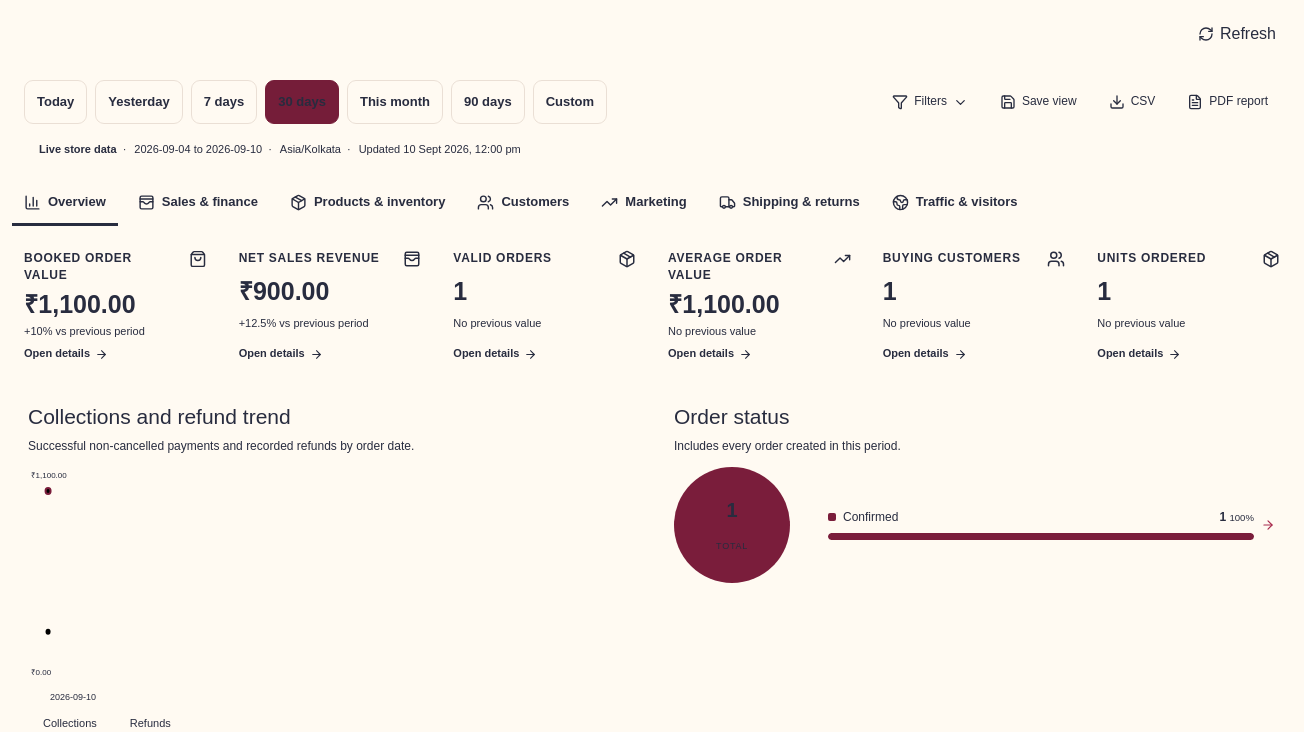
Test case: seller Reports Center loads every permitted section from seller-scoped APIs
Expected: the heading "Collections and refund trend" is shown, [28, 405, 291, 428]
Click the button "Sales & finance" at x=198, y=204, box [126, 182, 270, 226]
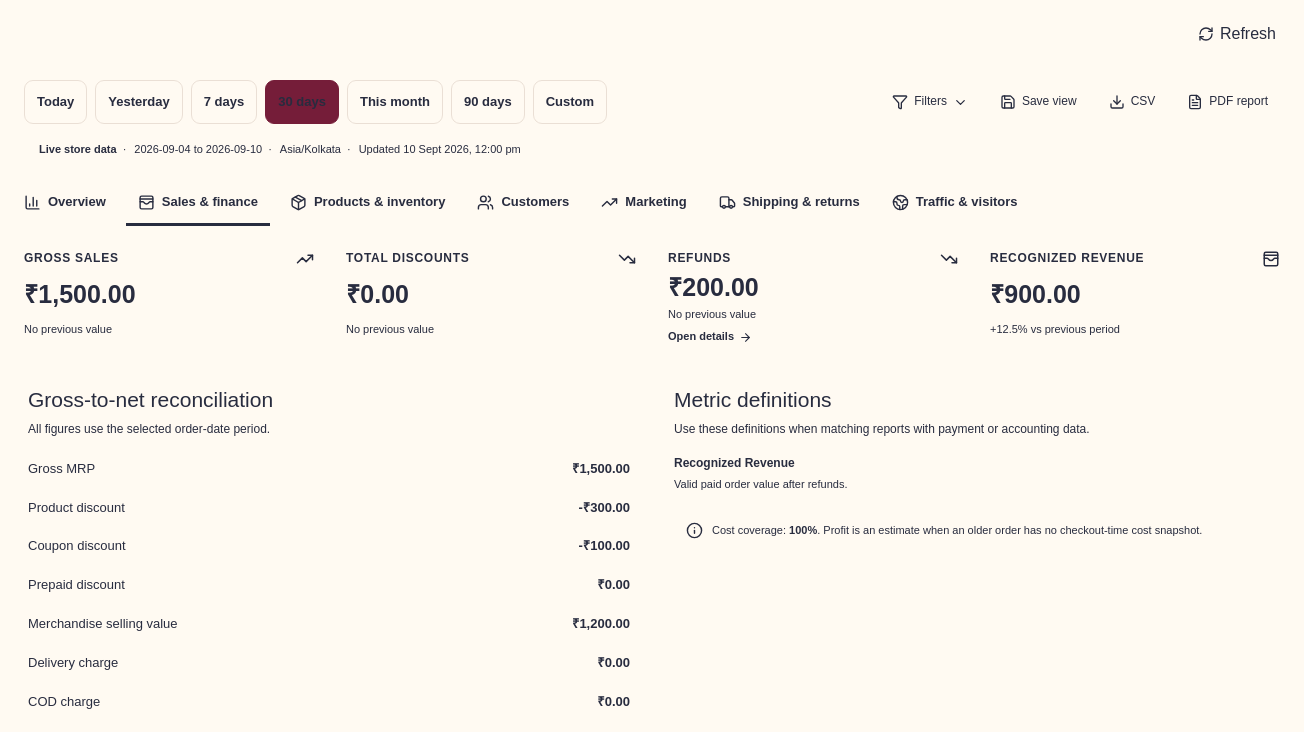
Expected: the heading "Gross-to-net reconciliation" is shown, [28, 385, 273, 416]
Click the button "Products & inventory" at x=368, y=204, box [278, 182, 457, 226]
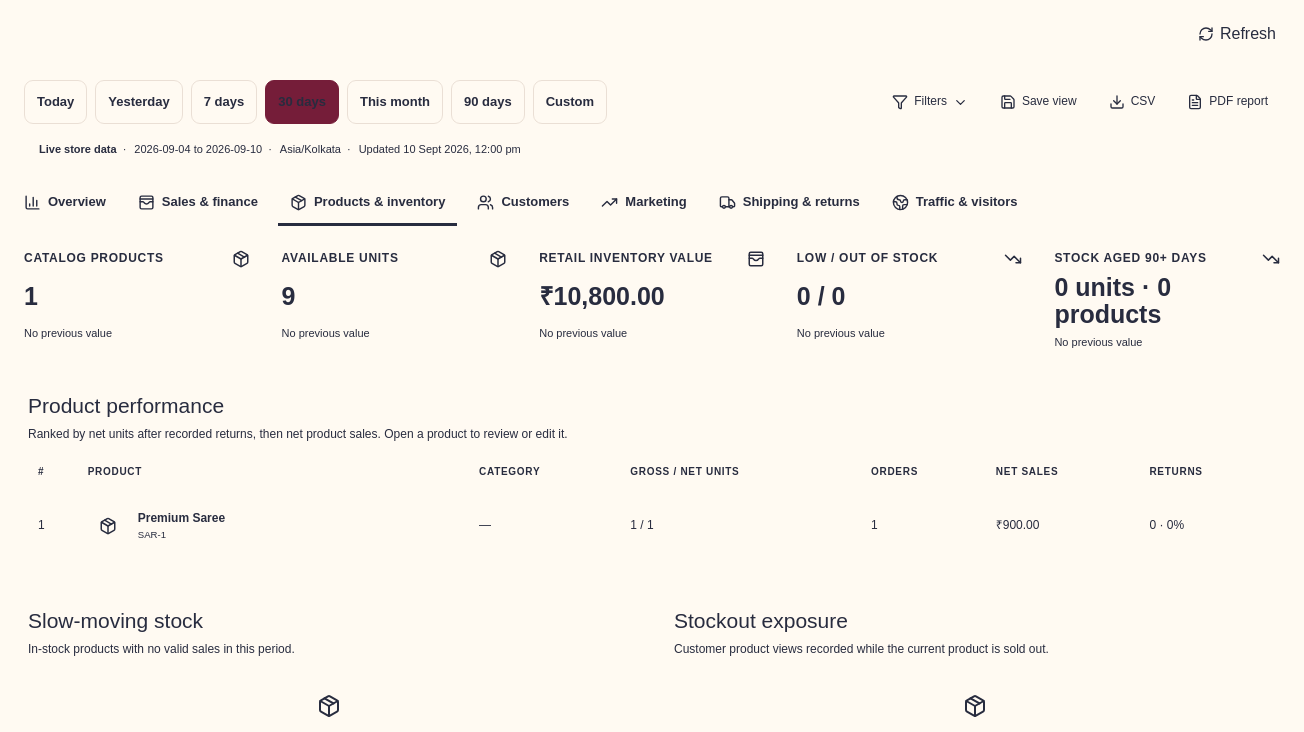
Expected: the heading "Product performance" is shown, [28, 394, 224, 417]
Click the button "Customers" at x=523, y=204, box [465, 182, 581, 226]
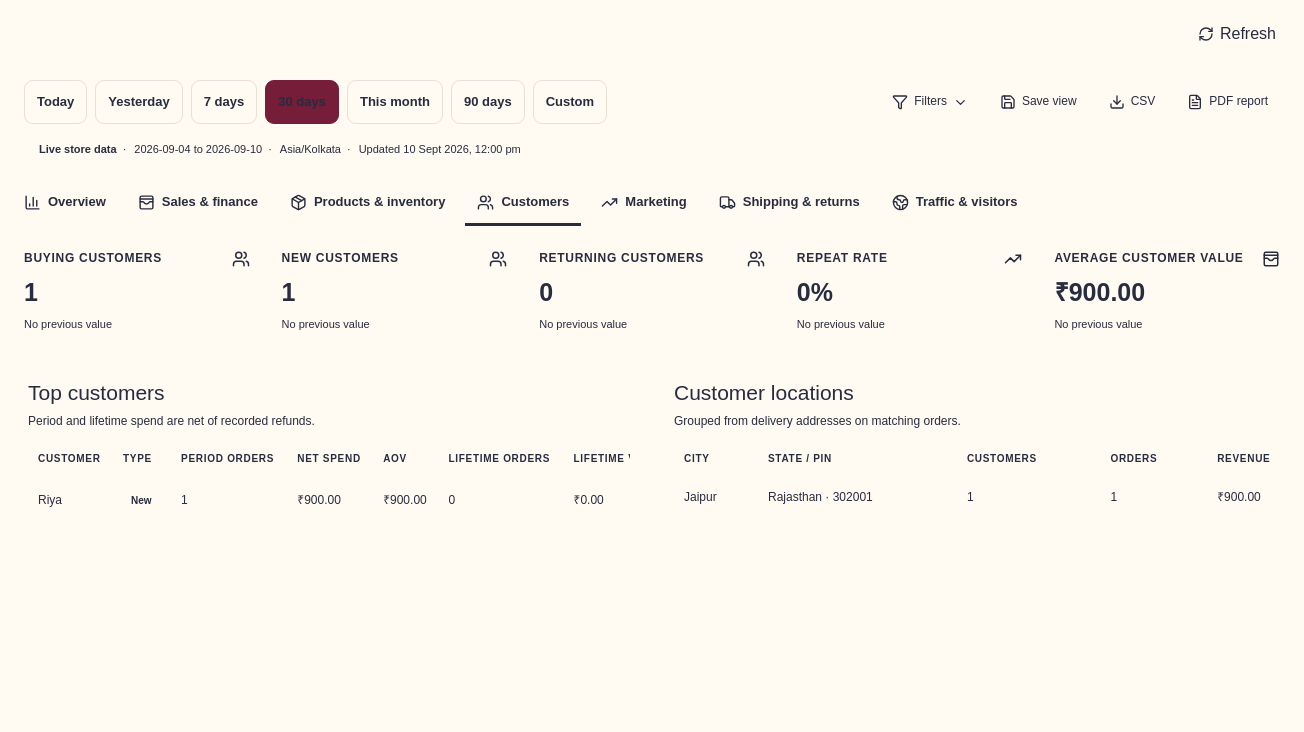
Expected: the heading "Customer locations" is shown, [674, 381, 854, 404]
Click the button "Marketing" at x=644, y=204, box [589, 182, 699, 226]
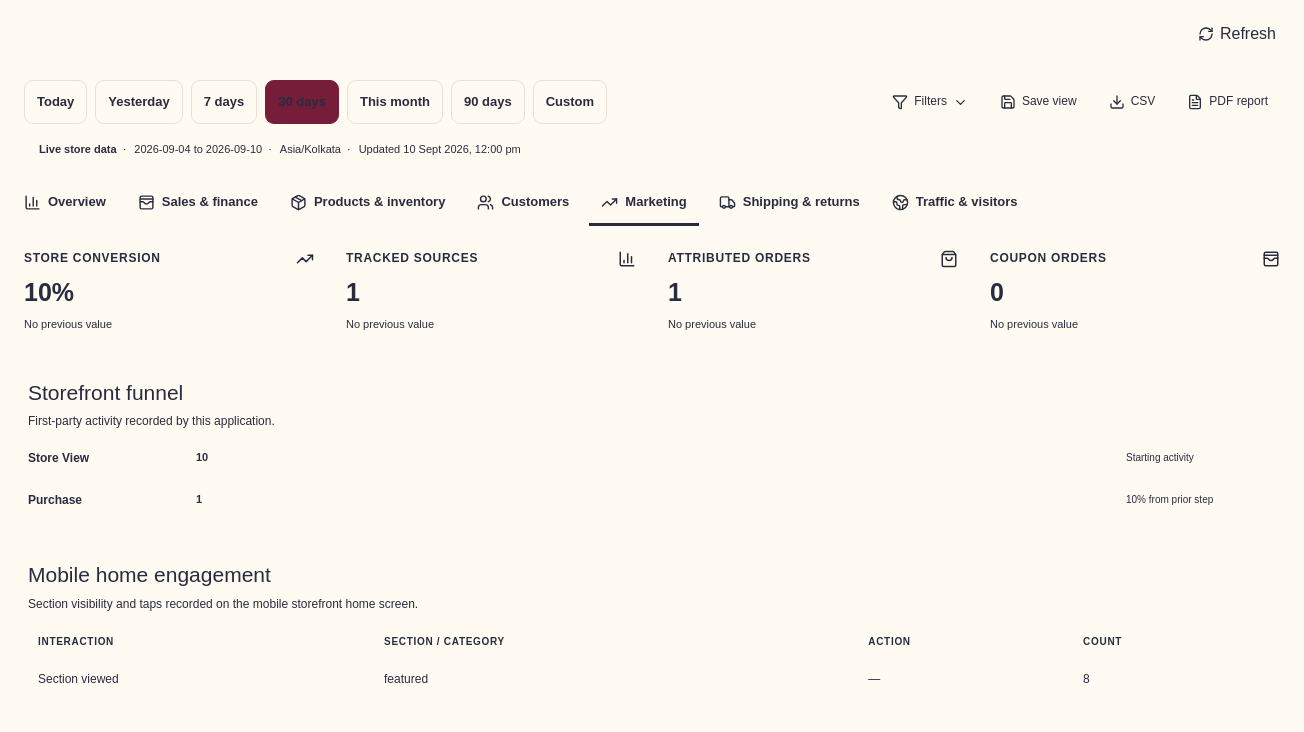
Expected: the heading "Storefront funnel" is shown, [28, 381, 183, 404]
Expected: the heading "Mobile home engagement" is shown, [28, 563, 271, 586]
Expected: the text "Section viewed" is shown, [28, 659, 374, 701]
Click the button "Shipping & returns" at x=789, y=204, box [707, 182, 872, 226]
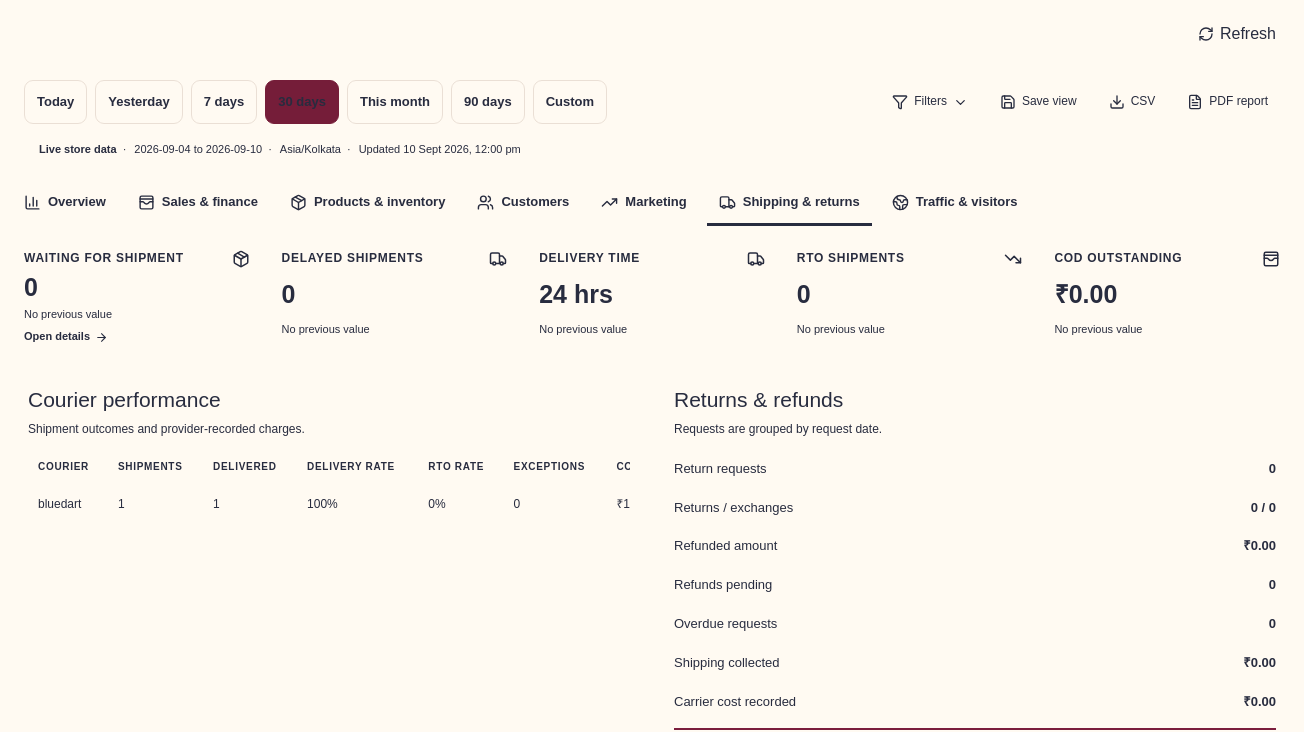
Expected: the heading "Courier performance" is shown, [28, 388, 221, 411]
